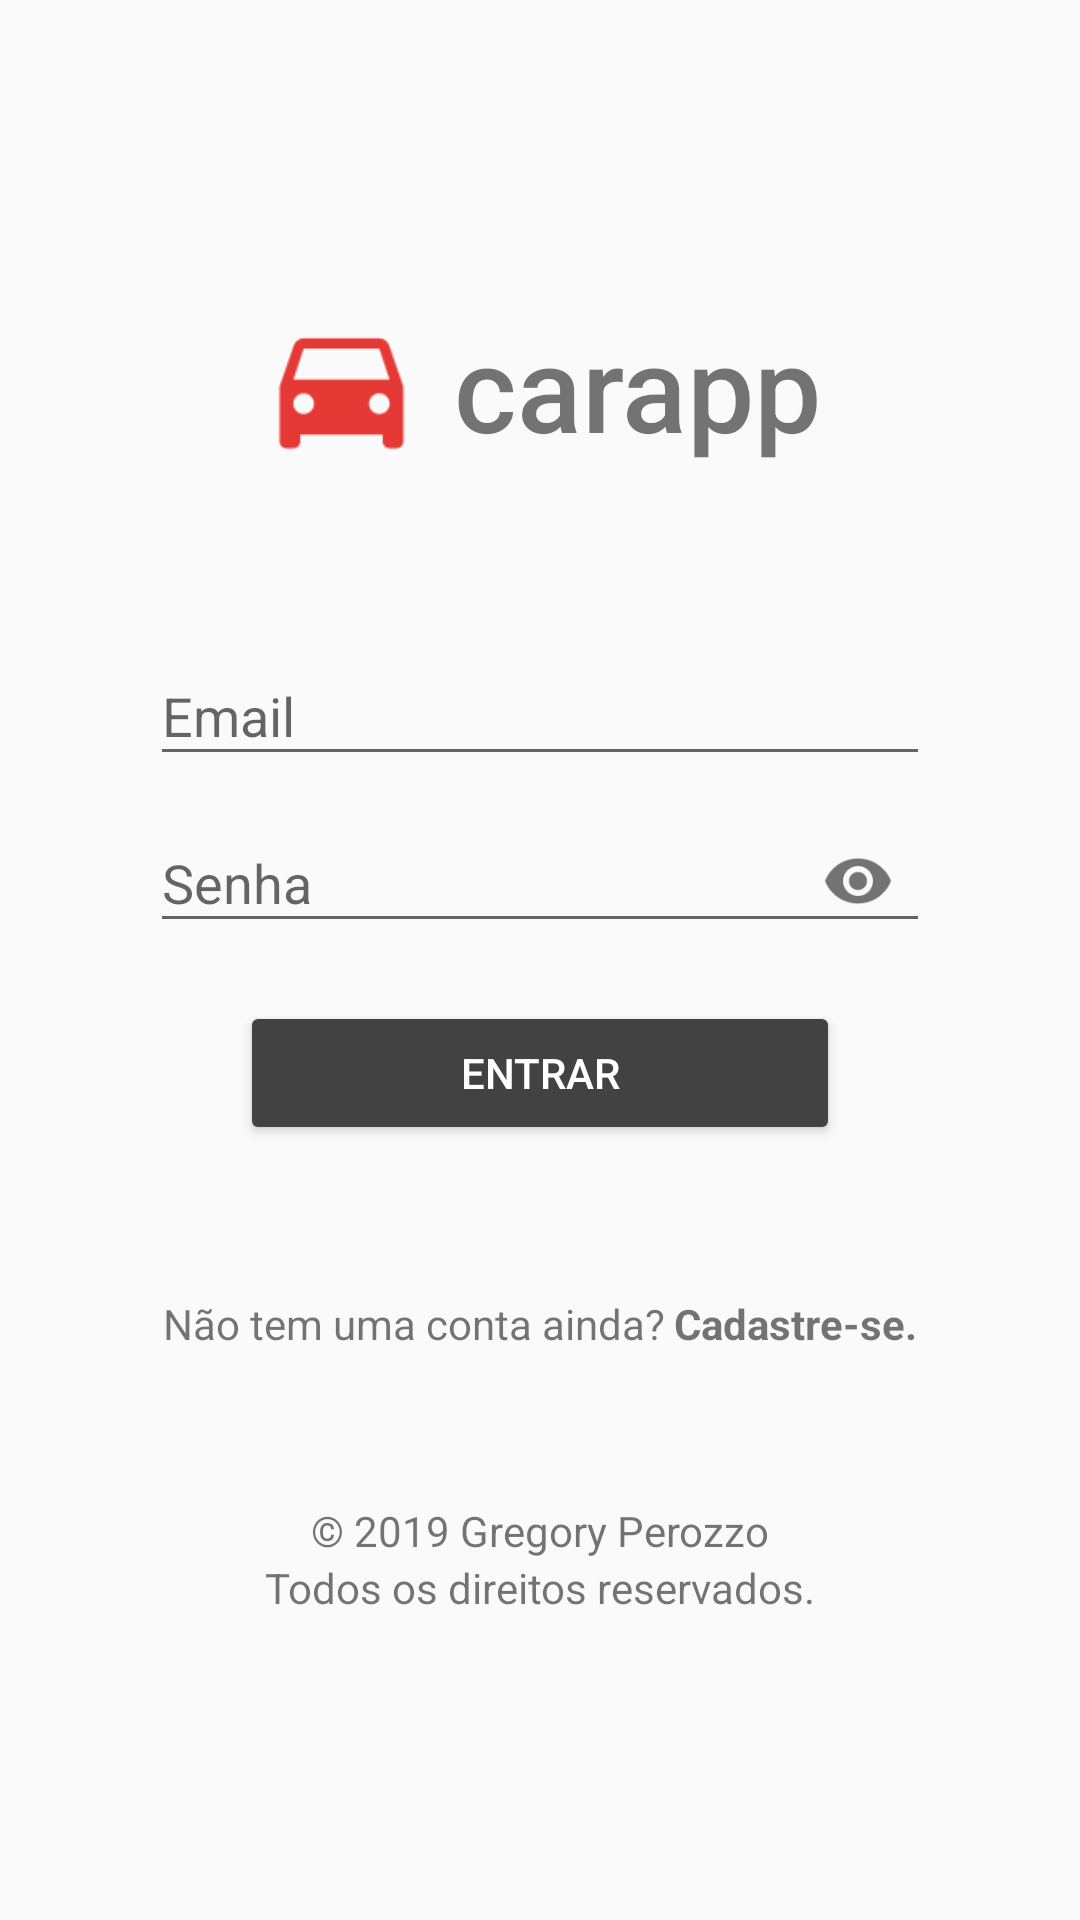

Icon bounding boxes for this 1080*1920 phone screenshot, format (x1, y1, x2, y2):
car: (278, 337, 405, 450)
